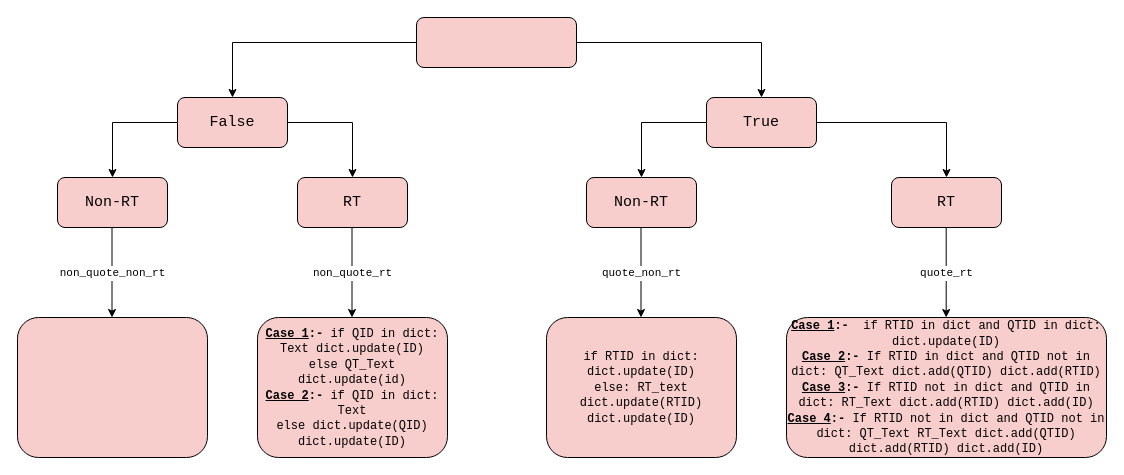
This 1124x475 diagram has some shape labels left out. The shapes that lost their labels are listed below. From the top down, each one's centre as x and y in pixels, then its label:
At [496,42]: "is_quote_tweet".
At [112,387]: "dict.update(id)".
